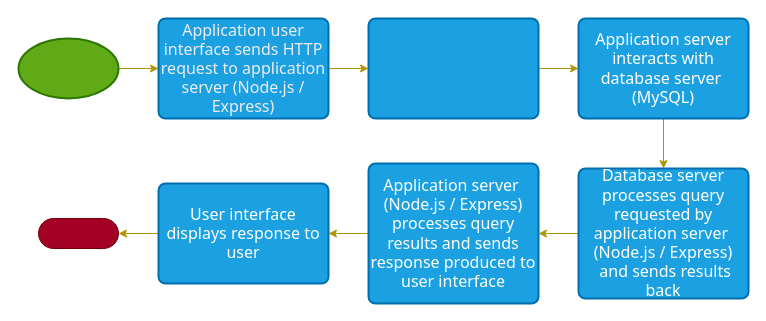
Some shapes in this 766 by 321 pixel diagram are drawn without their labels. The centre of each missing label's shape, as x and y in pixels:
Application opened by user: point 68,68
END: point 78,233
HTTP request is received by application server (Node.js / Express): point 453,68
